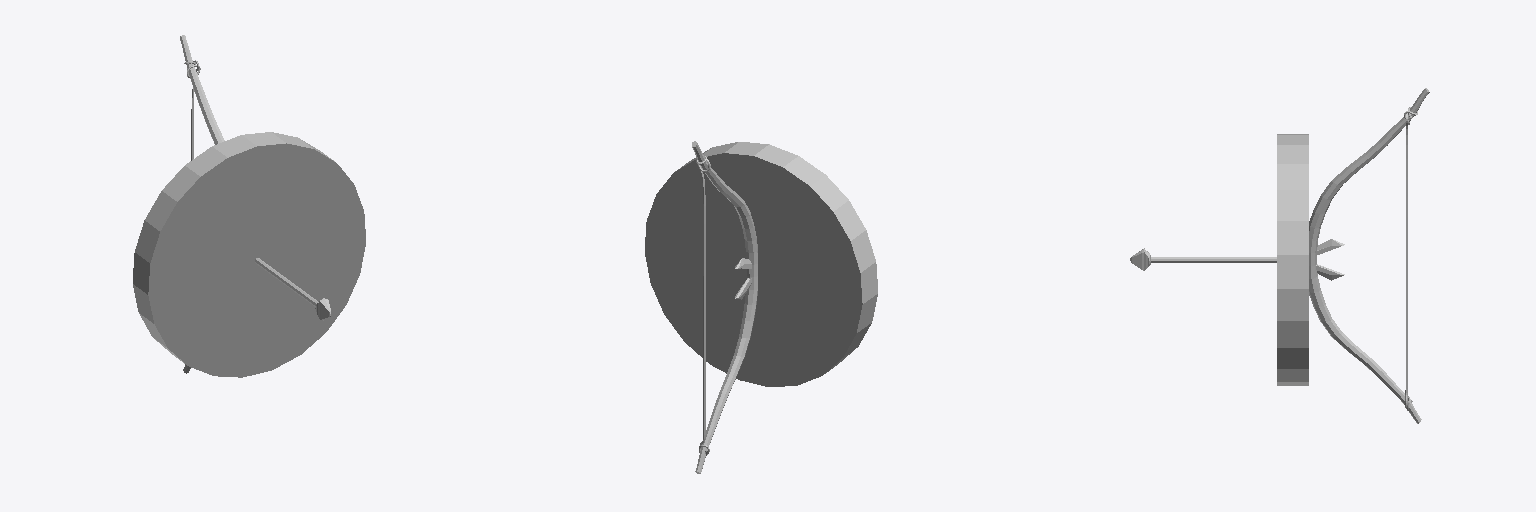
File: target4.obj
The picture shows the model from 3 angles: view 1: azimuth 30°, elevation 25°; view 2: azimuth 150°, elevation 25°; view 3: azimuth 270°, elevation 25°; orthographic projection.
Visible parts, largest first — view 1: Circle, NurbsPath_Mesh, Cube; view 2: Circle, NurbsPath_Mesh; view 3: Circle, NurbsPath_Mesh, Cube.
Part boxes in pixels (bbox=[...]): Circle: bbox=[133, 132, 365, 377]; NurbsPath_Mesh: bbox=[180, 35, 224, 373]; Cube: bbox=[255, 258, 330, 320]; Circle: bbox=[645, 142, 877, 386]; NurbsPath_Mesh: bbox=[692, 141, 757, 473]; Circle: bbox=[1277, 134, 1308, 385]; NurbsPath_Mesh: bbox=[1309, 88, 1429, 423]; Cube: bbox=[1130, 239, 1344, 280].
Size of the model in its own units: 7.98 by 11.75 by 9.48.